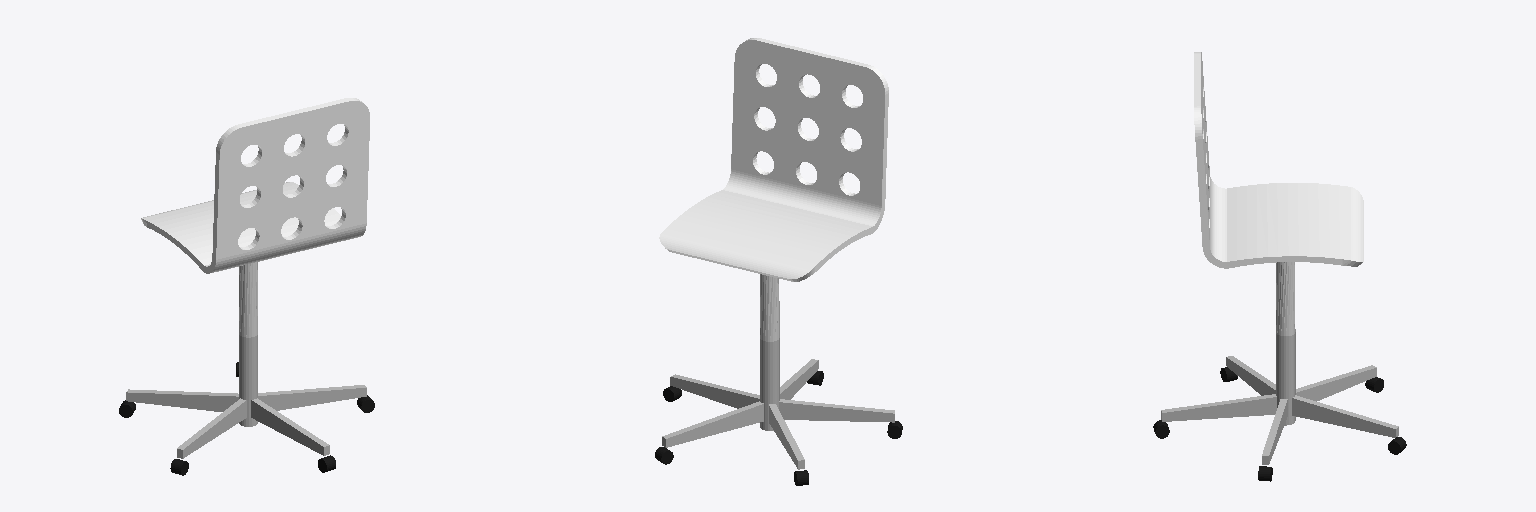
3 renders of one model, left to right at view 1: azimuth 30°, elevation 25°; view 2: azimuth 150°, elevation 25°; view 3: azimuth 270°, elevation 25°, orthographic.
Visible parts, largest first — view 1: Mesh1 Group2 Group1 Model, Mesh12 Group3 ske3F1 Group1 Model, Mesh7 Group6 Group3 ske3F1 Group1 Model, Mesh11 Group8 Group3 ske3F1 Group1 Model, Mesh5 Group5 Group3 ske3F1 Group1 Model, Mesh9 Group7 Group3 ske3F1 Group1 Model; view 2: Mesh1 Group2 Group1 Model, Mesh12 Group3 ske3F1 Group1 Model, Mesh9 Group7 Group3 ske3F1 Group1 Model, Mesh3 Group4 Group3 ske3F1 Group1 Model, Mesh11 Group8 Group3 ske3F1 Group1 Model, Mesh7 Group6 Group3 ske3F1 Group1 Model, Mesh5 Group5 Group3 ske3F1 Group1 Model; view 3: Mesh1 Group2 Group1 Model, Mesh12 Group3 ske3F1 Group1 Model, Mesh5 Group5 Group3 ske3F1 Group1 Model, Mesh3 Group4 Group3 ske3F1 Group1 Model, Mesh7 Group6 Group3 ske3F1 Group1 Model, Mesh9 Group7 Group3 ske3F1 Group1 Model, Mesh11 Group8 Group3 ske3F1 Group1 Model.
Boxes of the visible parts, x1=… form: Mesh1 Group2 Group1 Model: x1=141, y1=98, x2=369, y2=273; Mesh12 Group3 ske3F1 Group1 Model: x1=239, y1=262, x2=257, y2=426; Mesh7 Group6 Group3 ske3F1 Group1 Model: x1=126, y1=389, x2=238, y2=411; Mesh11 Group8 Group3 ske3F1 Group1 Model: x1=258, y1=385, x2=366, y2=410; Mesh5 Group5 Group3 ske3F1 Group1 Model: x1=251, y1=398, x2=329, y2=455; Mesh9 Group7 Group3 ske3F1 Group1 Model: x1=177, y1=398, x2=246, y2=458; Mesh1 Group2 Group1 Model: x1=659, y1=38, x2=888, y2=281; Mesh12 Group3 ske3F1 Group1 Model: x1=760, y1=274, x2=779, y2=430; Mesh9 Group7 Group3 ske3F1 Group1 Model: x1=779, y1=399, x2=894, y2=422; Mesh3 Group4 Group3 ske3F1 Group1 Model: x1=662, y1=401, x2=763, y2=447; Mesh11 Group8 Group3 ske3F1 Group1 Model: x1=670, y1=374, x2=759, y2=408; Mesh7 Group6 Group3 ske3F1 Group1 Model: x1=769, y1=404, x2=804, y2=469; Mesh5 Group5 Group3 ske3F1 Group1 Model: x1=780, y1=359, x2=818, y2=399; Mesh1 Group2 Group1 Model: x1=1194, y1=52, x2=1363, y2=268; Mesh12 Group3 ske3F1 Group1 Model: x1=1276, y1=262, x2=1295, y2=425; Mesh5 Group5 Group3 ske3F1 Group1 Model: x1=1161, y1=394, x2=1276, y2=421; Mesh3 Group4 Group3 ske3F1 Group1 Model: x1=1292, y1=395, x2=1398, y2=437; Mesh7 Group6 Group3 ske3F1 Group1 Model: x1=1296, y1=365, x2=1376, y2=401; Mesh9 Group7 Group3 ske3F1 Group1 Model: x1=1226, y1=356, x2=1275, y2=395; Mesh11 Group8 Group3 ske3F1 Group1 Model: x1=1262, y1=399, x2=1287, y2=464.
Size of the model in its own units: 0.5449 by 0.8268 by 0.544.